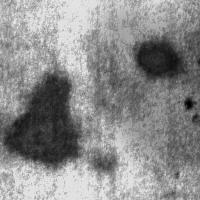patches: (111, 13, 200, 173), (4, 71, 78, 167), (96, 7, 160, 71), (135, 39, 181, 76)
